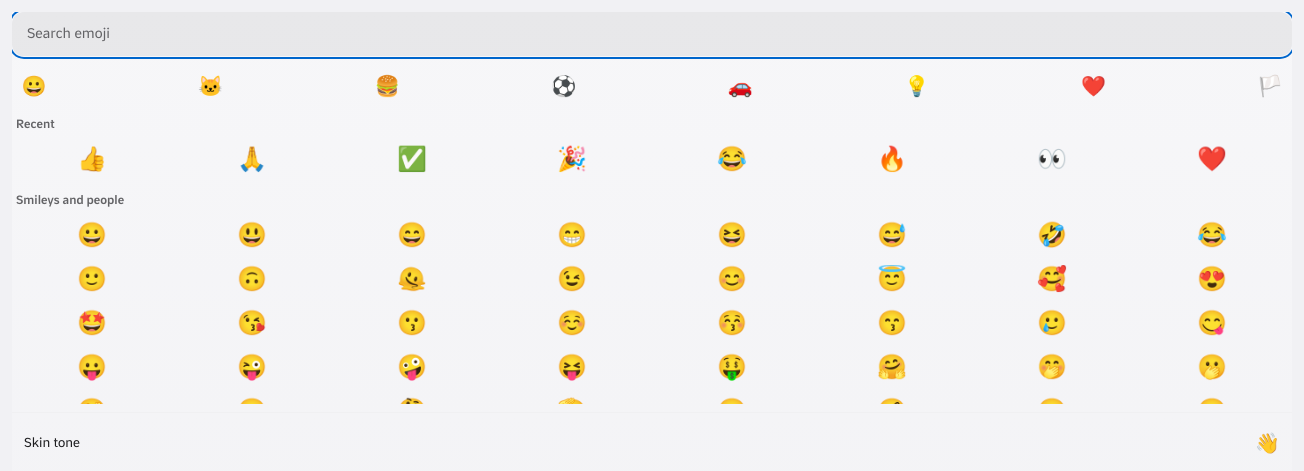
Test: the emoji panel › says No emoji has this name.
Type "zzzz" into the search field at (652, 34), box [12, 12, 1292, 56]
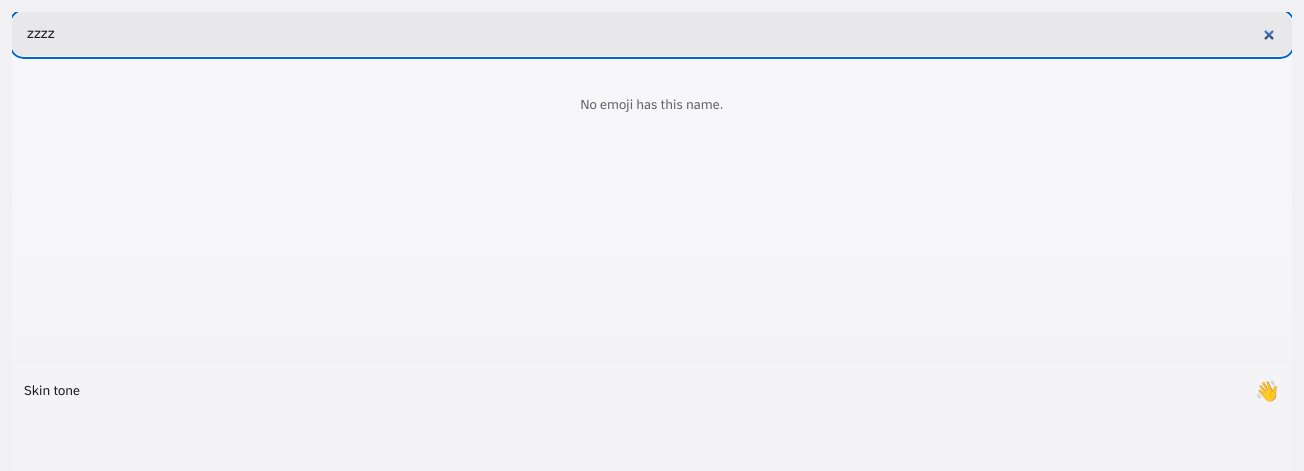
Check: the text "No emoji has this name." is shown, box [580, 96, 724, 112]
